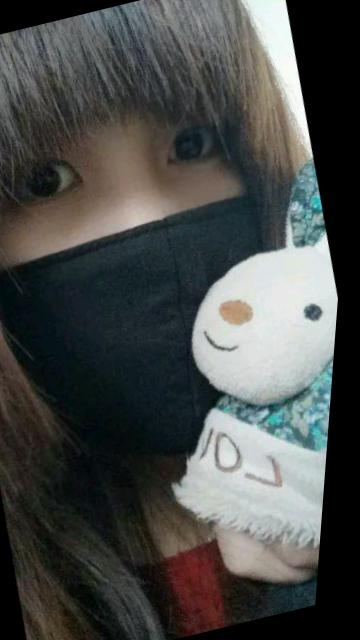WRONG: (1, 72, 340, 445)
